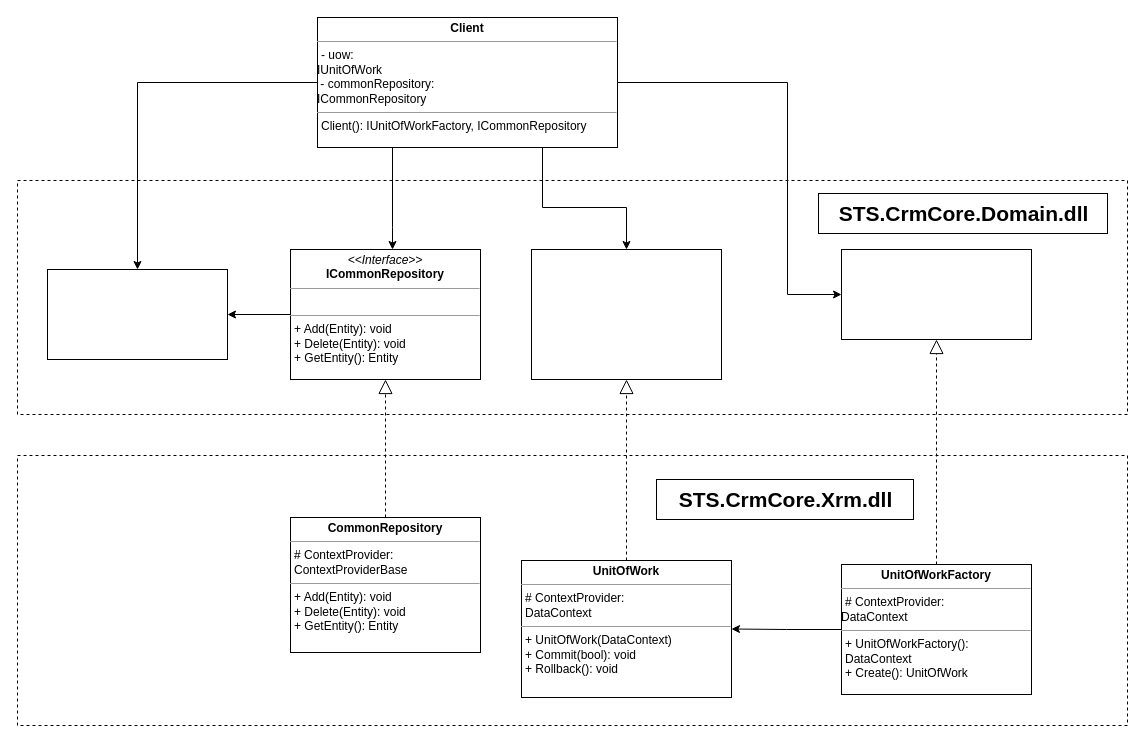
This 1145x743 diagram has some shape labels left out. Here are the shapes that lost their labels. From the top down, the box of each, then its label:
(46, 268, 228, 360): STS.CrmCore.Domain.Entity
(530, 248, 722, 380): <<Interface>> IUnitOfWork + Commit(bool): void + Rollback(): void
(840, 248, 1032, 340): <<Interface>> IUnitOfWorkFactory + Create(Guid): IUnitOfWork
